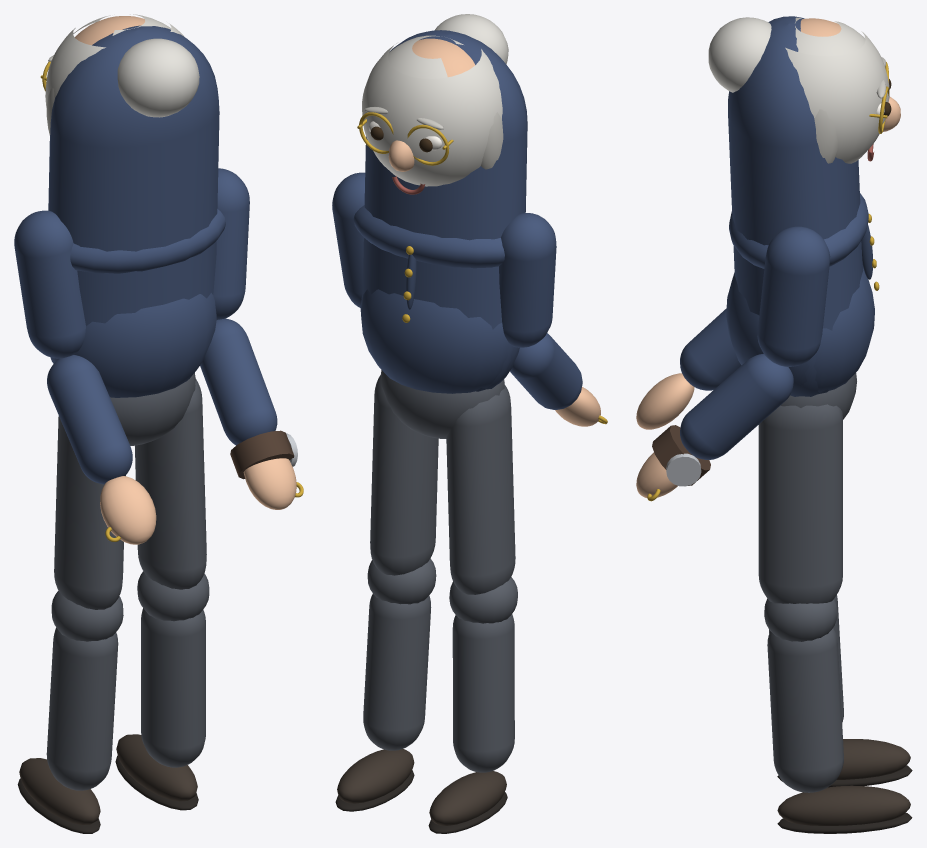
Rendered from grandma.glb.
3 renders of one model, left to right at view 1: azimuth 30°, elevation 25°; view 2: azimuth 150°, elevation 25°; view 3: azimuth 270°, elevation 25°, orthographic. The views are drawn at different scales.
Visible parts, largest first — view 1: 老奶奶; view 2: 老奶奶; view 3: 老奶奶.
Part boxes in pixels (<box>): 老奶奶: <box>14,14,303,833</box>; 老奶奶: <box>332,14,607,833</box>; 老奶奶: <box>636,16,912,833</box>.
Size of the model in its own units: 0.4115 by 1.38 by 0.4402.
